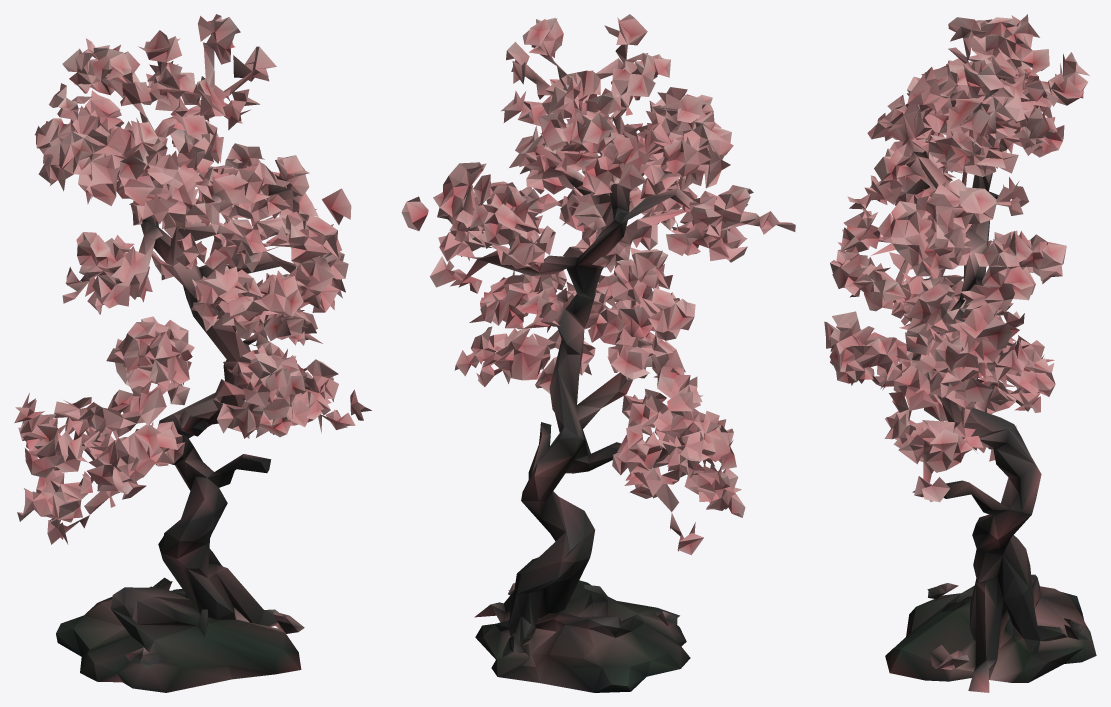
File: tree_peach.vch.glb
3 views of the same model, side by side, from view 1: azimuth 30°, elevation 25°; view 2: azimuth 150°, elevation 25°; view 3: azimuth 270°, elevation 25° (orthographic). The views are drawn at different scales.
Parts seen in each view (by area): view 1: tree_peach; view 2: tree_peach; view 3: tree_peach.
Boxes of the visible parts, x1=… form: tree_peach: x1=14, y1=14, x2=371, y2=692; tree_peach: x1=401, y1=14, x2=795, y2=692; tree_peach: x1=824, y1=14, x2=1096, y2=692.
Bounding box in the file's own units: 1.06 × 1.89 × 0.7647.
